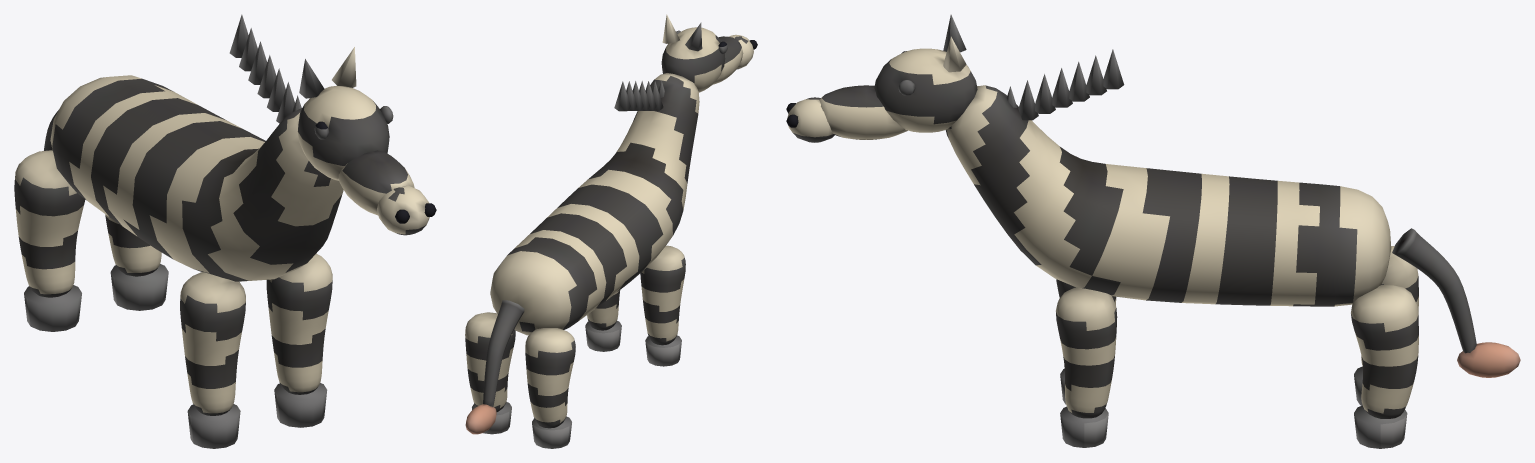
3 views of the same model, side by side, from view 1: azimuth 30°, elevation 25°; view 2: azimuth 150°, elevation 25°; view 3: azimuth 270°, elevation 25° (orthographic). The views are drawn at different scales.
Parts seen in each view (by area): view 1: torso, head, legBR, legFR, legFL, legBL, mane; view 2: torso, legBR, head, legFR, legBL, tail, legFL, mane; view 3: torso, head, legBL, legFL, tail, mane, legBR.
Boxes of the visible parts, x1=… form: torso: x1=50, y1=75, x2=343, y2=281; head: x1=297, y1=47, x2=436, y2=235; legBR: x1=14, y1=150, x2=85, y2=331; legFR: x1=180, y1=272, x2=245, y2=448; legFL: x1=266, y1=253, x2=332, y2=427; legBL: x1=105, y1=214, x2=168, y2=310; mane: x1=229, y1=14, x2=301, y2=123; torso: x1=490, y1=73, x2=699, y2=335; legBR: x1=525, y1=328, x2=575, y2=448; head: x1=661, y1=14, x2=757, y2=92; legFR: x1=640, y1=245, x2=685, y2=366; legBL: x1=465, y1=312, x2=515, y2=434; tail: x1=465, y1=300, x2=524, y2=434; legFL: x1=585, y1=290, x2=621, y2=351; mane: x1=614, y1=81, x2=664, y2=111; torso: x1=945, y1=85, x2=1391, y2=306; head: x1=786, y1=14, x2=977, y2=142; legBL: x1=1351, y1=285, x2=1418, y2=448; legFL: x1=1056, y1=287, x2=1117, y2=447; tail: x1=1392, y1=228, x2=1520, y2=377; mane: x1=1006, y1=49, x2=1124, y2=120; legBR: x1=1354, y1=246, x2=1418, y2=405.
Size of the model in its own units: 0.2778 by 0.7641 by 1.29.
